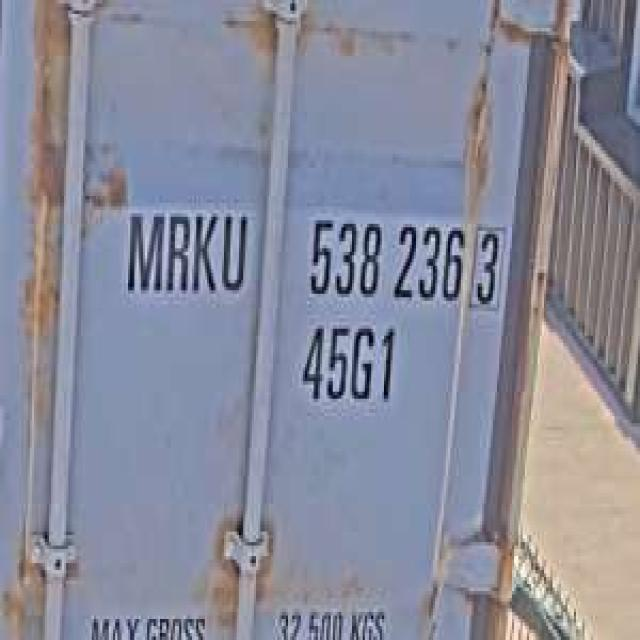dv: (468, 220, 509, 316)
owner: (115, 195, 256, 314)
serial: (303, 205, 467, 312)
size: (296, 319, 401, 413)
